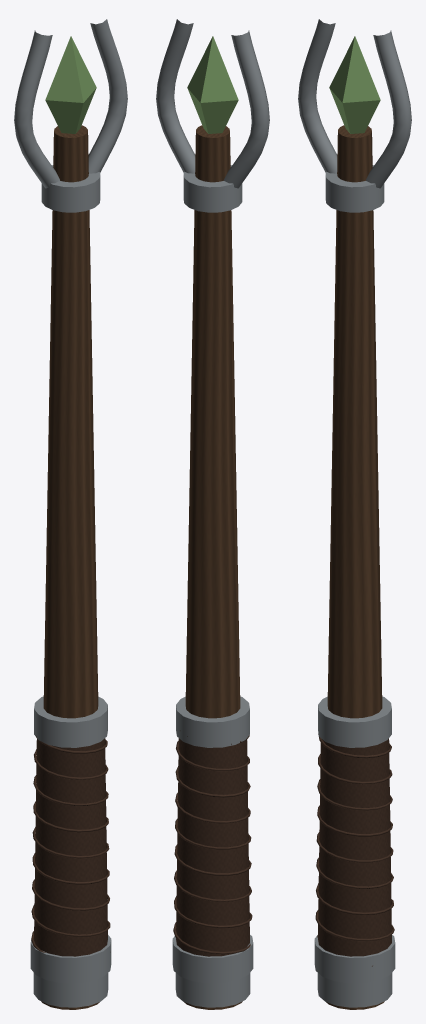
File: corealm_wand_2.glb
The picture shows the model from 3 angles, left to right: view 1: azimuth 30°, elevation 25°; view 2: azimuth 150°, elevation 25°; view 3: azimuth 330°, elevation 25°; orthographic projection.
Parts seen in each view (by area): view 1: corealm-weapon-wood, corealm-weapon-leather, corealm-weapon-metal, corealm-weapon-gem; view 2: corealm-weapon-wood, corealm-weapon-leather, corealm-weapon-metal, corealm-weapon-gem; view 3: corealm-weapon-wood, corealm-weapon-leather, corealm-weapon-metal, corealm-weapon-gem.
Part boxes in pixels (box(x1,y1,x2,y2)): corealm-weapon-wood: box(41, 125, 99, 1009); corealm-weapon-leather: box(31, 736, 110, 956); corealm-weapon-metal: box(14, 19, 127, 1007); corealm-weapon-gem: box(45, 36, 96, 133); corealm-weapon-wood: box(184, 125, 242, 1009); corealm-weapon-leather: box(173, 730, 252, 956); corealm-weapon-metal: box(156, 19, 269, 1007); corealm-weapon-gem: box(187, 36, 238, 133); corealm-weapon-wood: box(326, 125, 384, 1009); corealm-weapon-leather: box(315, 734, 394, 966); corealm-weapon-metal: box(298, 19, 411, 1007); corealm-weapon-gem: box(329, 36, 380, 133).
Bounding box in the file's own units: 0.0826 × 0.6854 × 0.052.
Materials: 4 (2 with a texture image).
